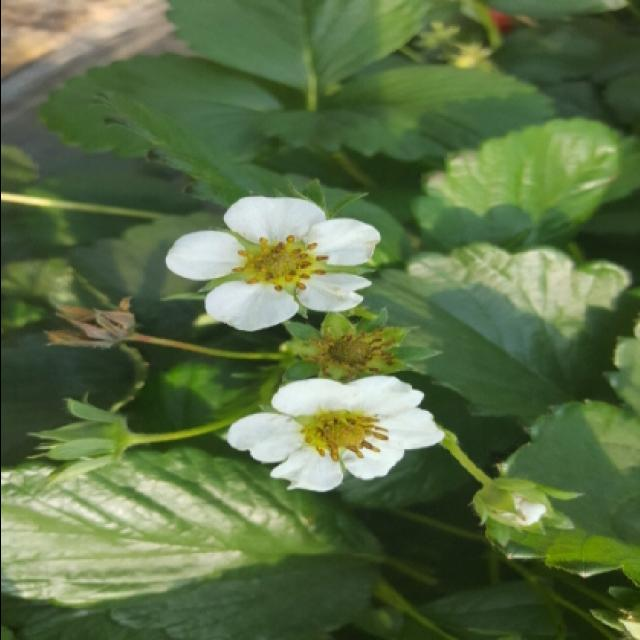Blossom Blight: (229, 232, 332, 296), (299, 410, 390, 464), (318, 327, 396, 375)
